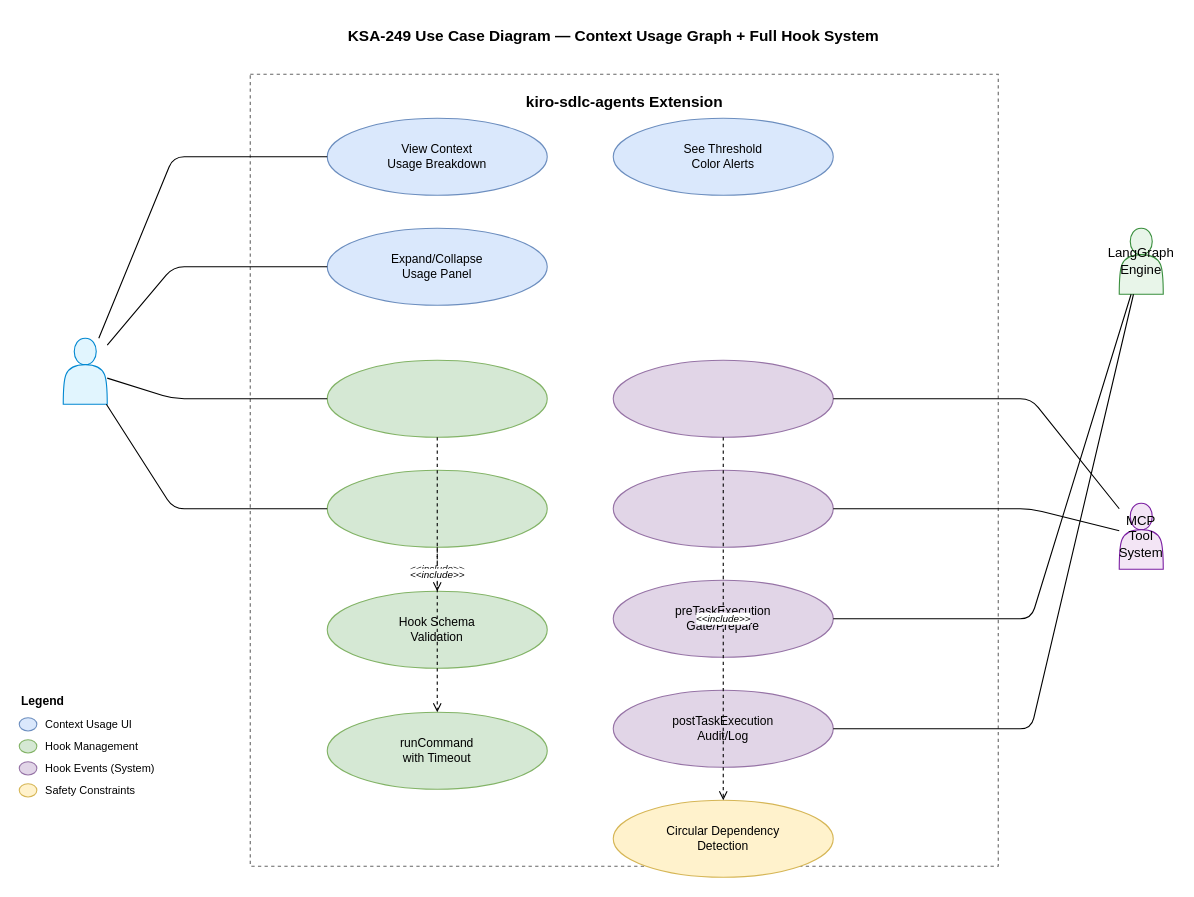
This 1194x897 diagram has some shape labels left out. Each missing label, with the box of its shape:
Define Hook in .kiro/hooks/: (326, 469, 547, 547)
Developer: (62, 337, 107, 404)
postToolUse Monitoring: (612, 469, 833, 547)
preToolUse Access Control: (612, 359, 833, 437)
Trigger Hook Manually: (326, 359, 547, 437)
